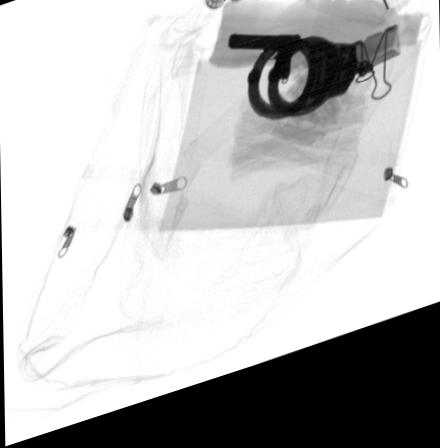Gun: (226, 49, 302, 97)
HandCuffs: (245, 54, 373, 138)
